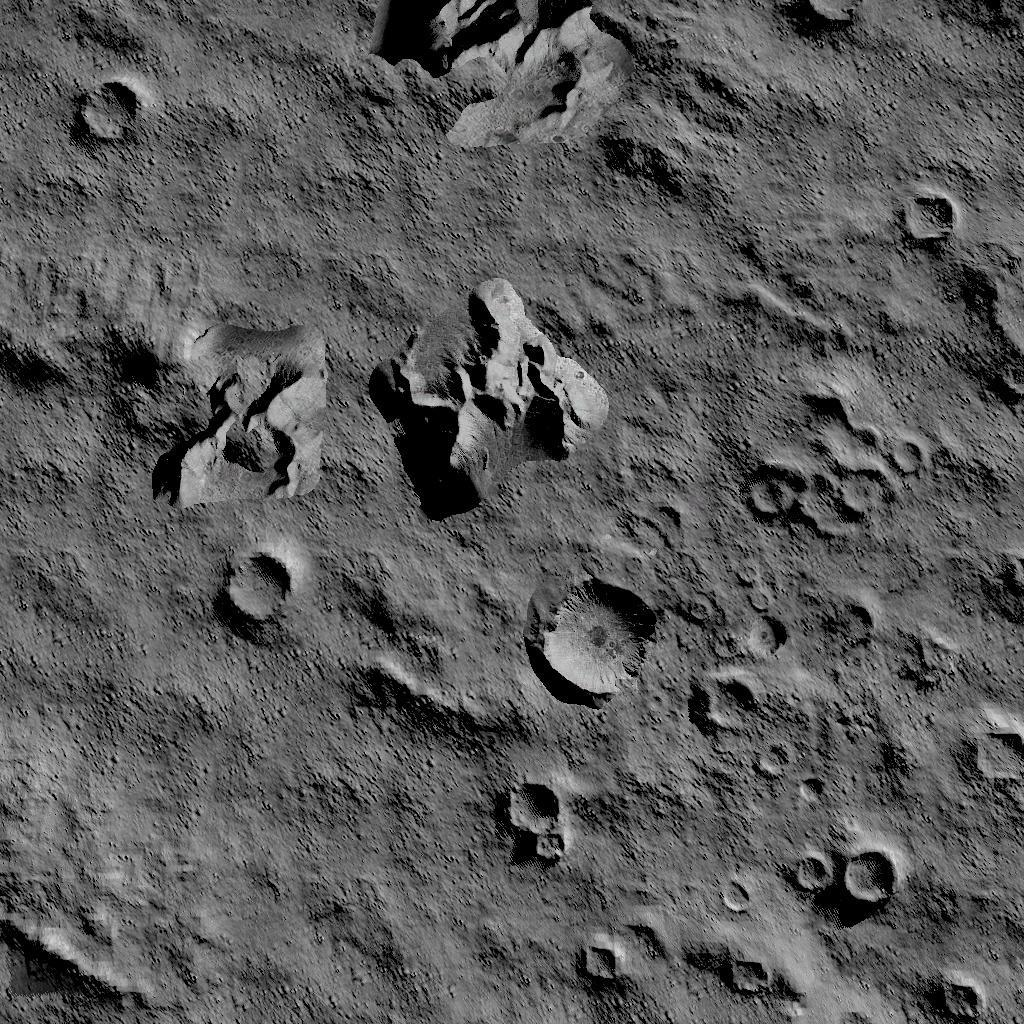Boulders: (368, 278, 607, 519), (363, 0, 639, 152), (104, 326, 317, 514)
Crater: (740, 398, 916, 545), (526, 578, 655, 703), (967, 264, 1024, 415), (216, 550, 294, 632), (498, 783, 570, 871), (790, 848, 896, 904), (67, 82, 144, 148), (686, 676, 760, 736), (956, 729, 1024, 790), (894, 190, 959, 250), (719, 954, 778, 1001), (792, 0, 862, 34), (928, 984, 986, 1024), (576, 940, 622, 988), (980, 554, 1024, 604), (749, 617, 794, 665), (714, 883, 756, 916), (738, 752, 781, 782), (789, 780, 821, 808)
Plan surface: (3, 752, 475, 932), (155, 0, 349, 312), (677, 50, 1024, 178), (3, 526, 191, 744)
